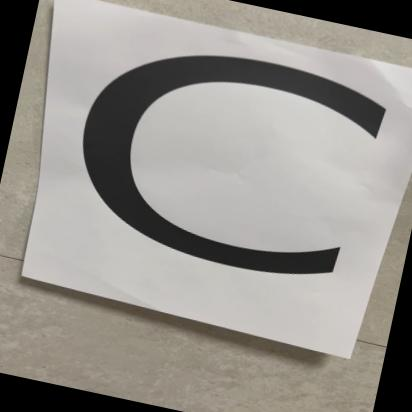seat: (16, 0, 412, 340)
